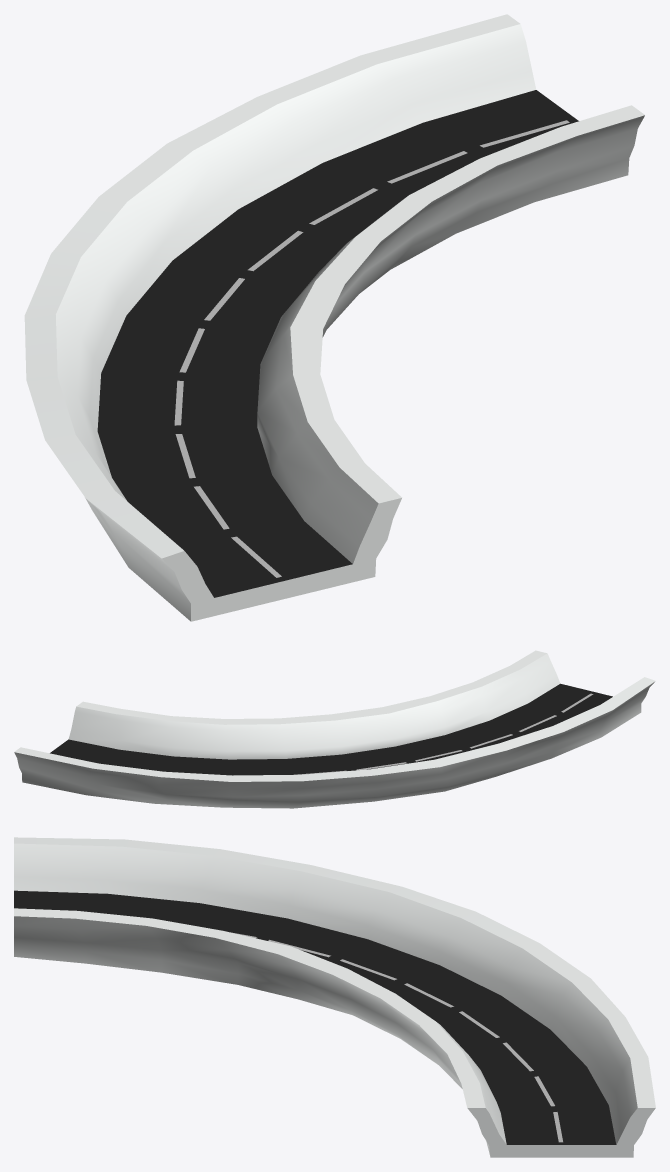
The model's file is duong cong 2.fbx.
The picture shows the model from 3 angles, top to bottom: view 1: azimuth 30°, elevation 25°; view 2: azimuth 150°, elevation 25°; view 3: azimuth 270°, elevation 25°; orthographic projection. The views are drawn at different scales.
Parts seen in each view (by area): view 1: duong_cong_2; view 2: duong_cong_2; view 3: duong_cong_2.
Boxes of the visible parts, box(x1,y1,x2,y2) form: duong_cong_2: box(24, 14, 644, 621); duong_cong_2: box(14, 650, 655, 808); duong_cong_2: box(14, 837, 655, 1157).
Size of the model in its own units: 70.52 by 6 by 70.34.
1 material, 1 textured.
